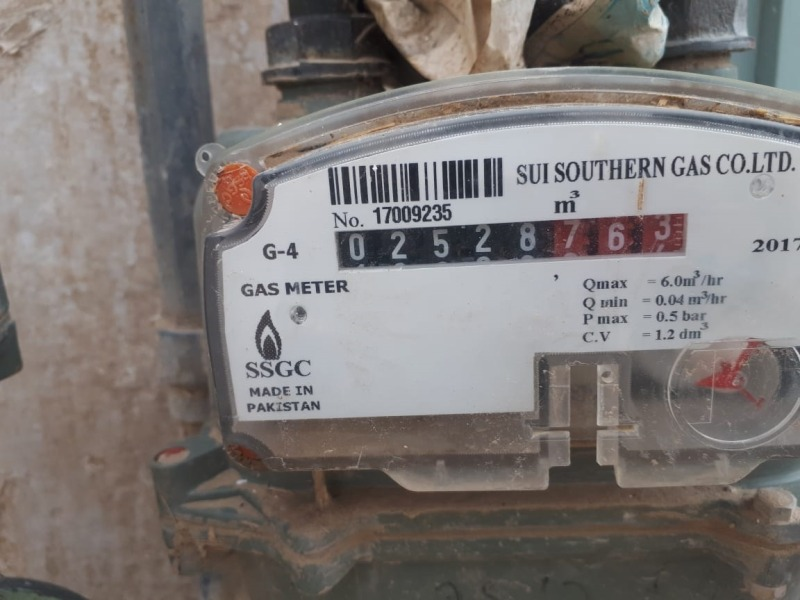ssgc: (332, 215, 687, 268)
